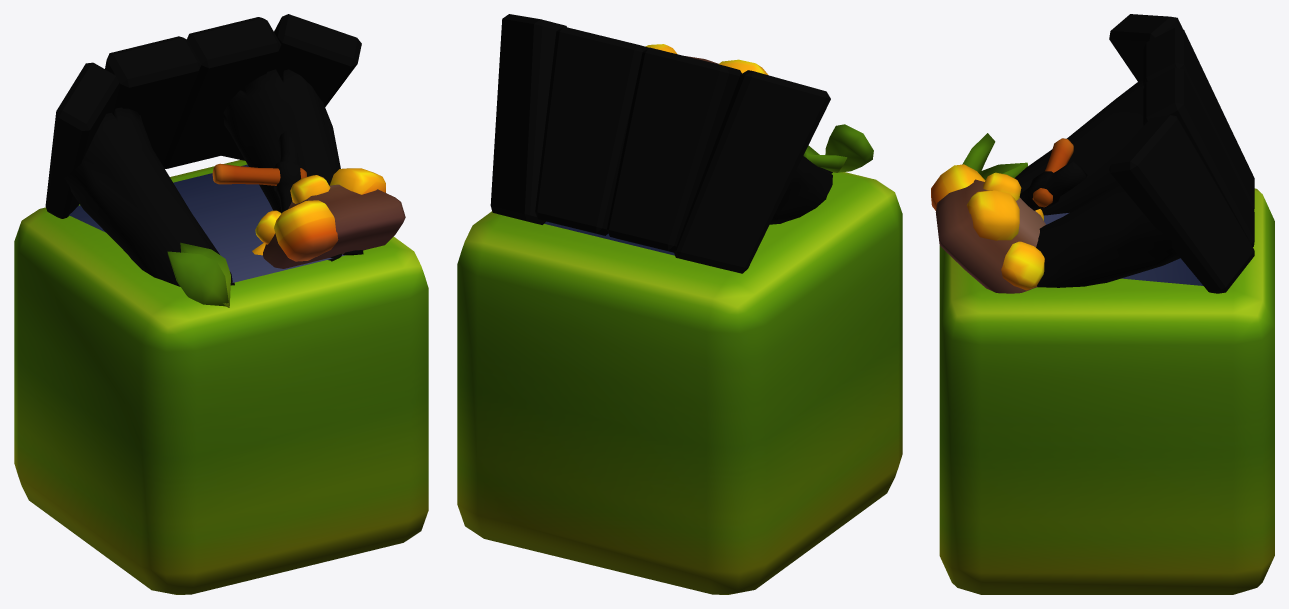
File: block_mine.fbx
3 views of the same model, side by side, from view 1: azimuth 30°, elevation 25°; view 2: azimuth 150°, elevation 25°; view 3: azimuth 270°, elevation 25° (orthographic). The views are drawn at different scales.
Parts seen in each view (by area): view 1: block_tree_2.001; view 2: block_tree_2.001; view 3: block_tree_2.001.
Boxes of the visible parts, x1,y1,x2,y2 form: block_tree_2.001: (14, 14, 428, 594); block_tree_2.001: (457, 14, 902, 594); block_tree_2.001: (931, 14, 1274, 594).
Bounding box in the file's own units: 214 × 313 × 205.
